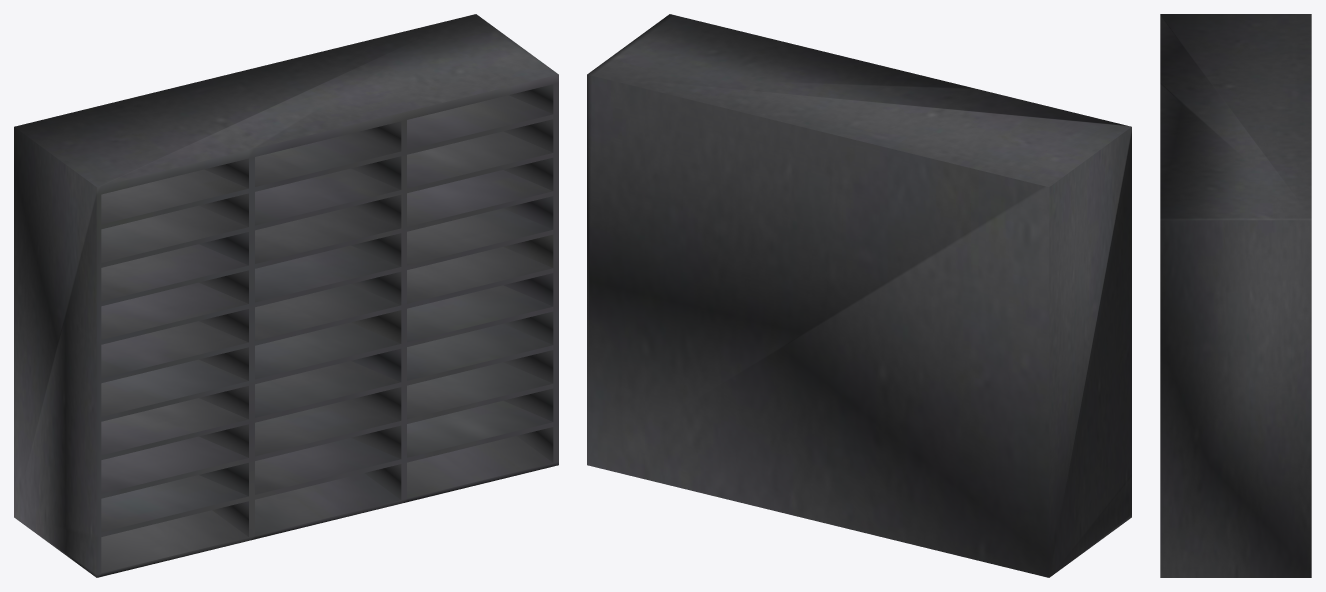
Rendered from pigeonhole.obj.
The picture shows the model from 3 angles, left to right: view 1: azimuth 30°, elevation 25°; view 2: azimuth 150°, elevation 25°; view 3: azimuth 270°, elevation 25°; orthographic projection. The views are drawn at different scales.
Visible parts, largest first — view 1: pigeonhole.obj; view 2: pigeonhole.obj; view 3: pigeonhole.obj.
Part boxes in pixels (x1=…): pigeonhole.obj: x1=14, y1=14, x2=558, y2=577; pigeonhole.obj: x1=587, y1=14, x2=1131, y2=577; pigeonhole.obj: x1=1160, y1=14, x2=1311, y2=577.
Bounding box in the file's own units: 4.79 × 3.87 × 1.48.
